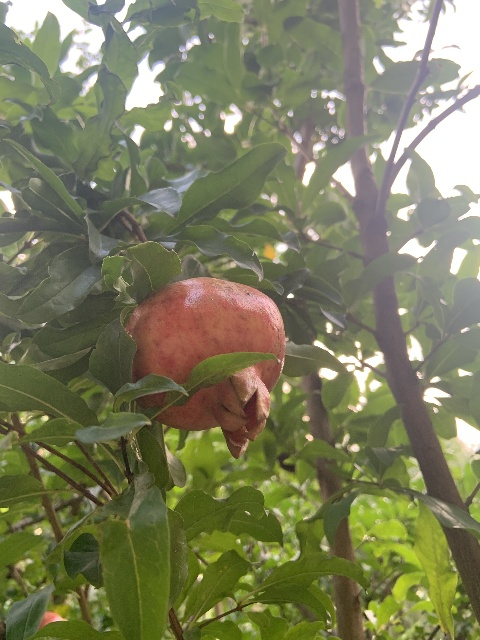ripe: (125, 277, 285, 456)
